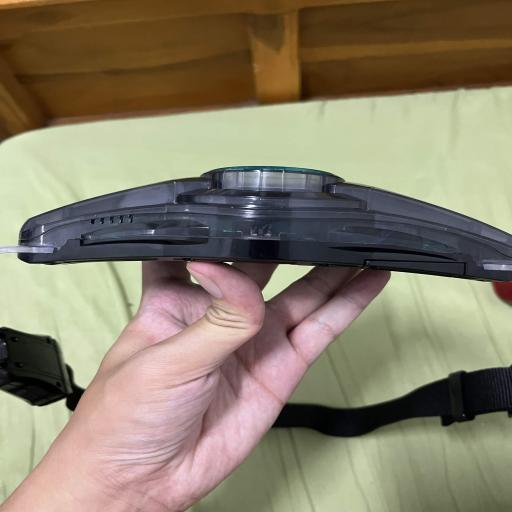zeztzdriver: (19, 166, 512, 281)
